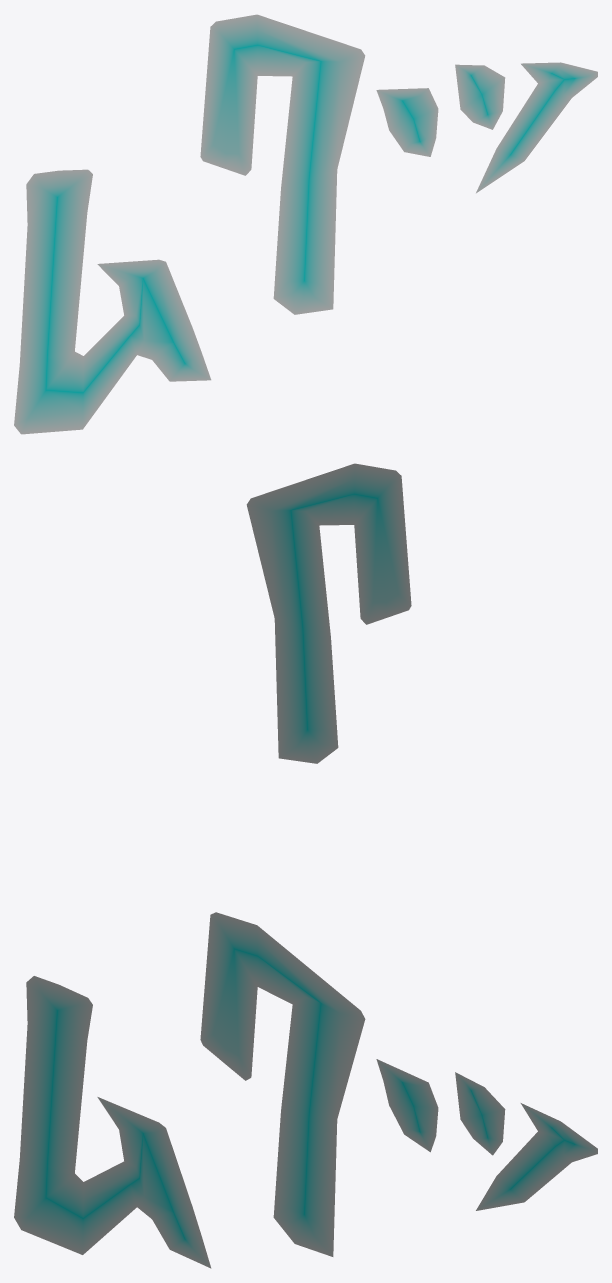
File: SM_EFF_Text_MitotecGeneration_01.glb
The picture shows the model from 3 angles, top to bottom: view 1: azimuth 30°, elevation 25°; view 2: azimuth 150°, elevation 25°; view 3: azimuth 330°, elevation 25°; orthographic projection.
Visible parts, largest first — view 1: SM_EFF_Text_MitotecGeneration_01; view 2: SM_EFF_Text_MitotecGeneration_01; view 3: SM_EFF_Text_MitotecGeneration_01.
Boxes of the visible parts, x1,y1,x2,y2 form: SM_EFF_Text_MitotecGeneration_01: [14, 14, 597, 434]; SM_EFF_Text_MitotecGeneration_01: [246, 463, 411, 763]; SM_EFF_Text_MitotecGeneration_01: [14, 912, 597, 1268].
Size of the model in its own units: 2.28 by 1.4 by 7.14e-09.
